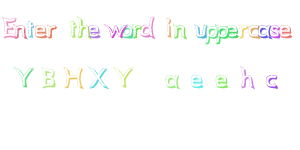B: (39, 64, 59, 91)
E: (1, 12, 15, 41)
H: (62, 64, 87, 92)
X: (89, 64, 111, 92)
Y: (9, 63, 40, 92), (113, 64, 137, 94)
a: (161, 67, 185, 95), (260, 23, 271, 42)
c: (262, 68, 284, 95), (250, 23, 259, 45)
d: (141, 15, 158, 43)
e: (188, 69, 210, 96), (213, 70, 233, 96), (89, 19, 102, 44), (36, 19, 47, 45), (281, 23, 293, 42), (228, 23, 239, 43)
h: (236, 63, 257, 95), (78, 17, 88, 44)
i: (164, 16, 173, 43)
n: (174, 19, 189, 44), (16, 14, 27, 43)
o: (122, 23, 133, 43)
p: (218, 22, 228, 50), (207, 21, 217, 46)
r: (47, 21, 57, 43), (240, 24, 249, 44), (132, 23, 141, 42)
s: (272, 23, 280, 42)
t: (67, 18, 77, 41), (28, 17, 35, 44)
u: (193, 20, 207, 44)
w: (105, 20, 123, 46)
